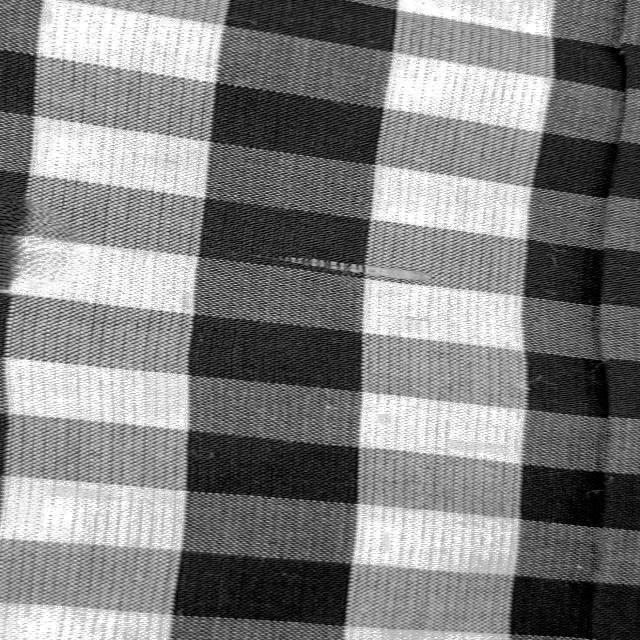Foreign_yarn: (254, 238, 464, 296)
